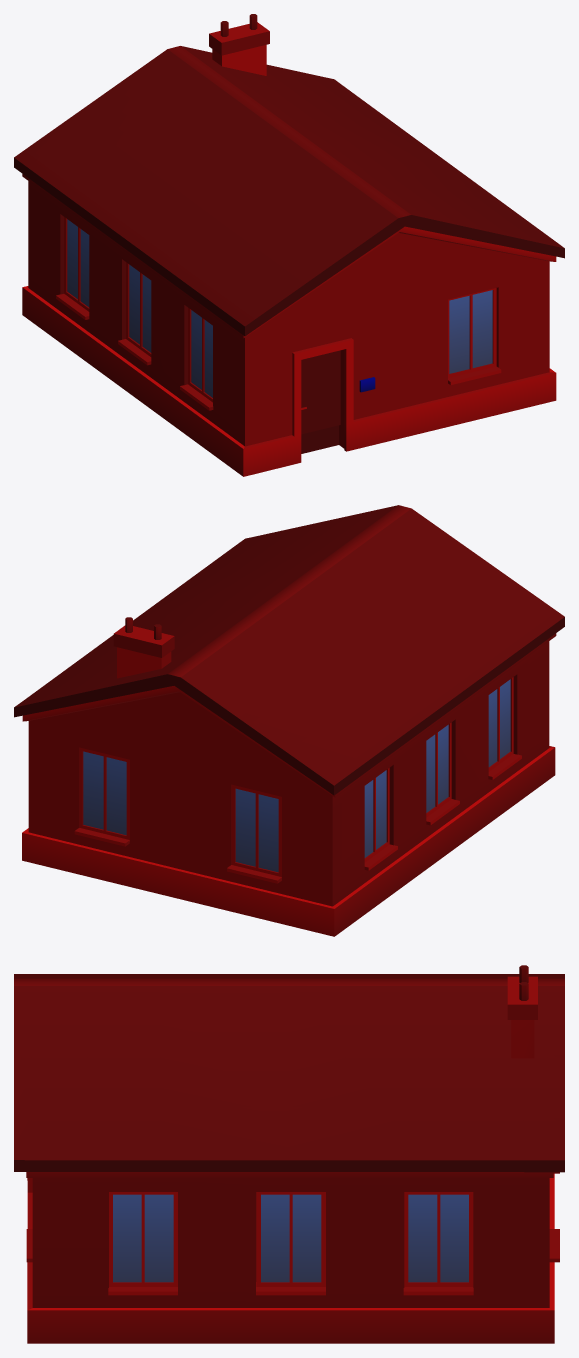
Rendered from buildings-business-smallbusiness_v2.fbx.
3 renders of one model, top to bottom at view 1: azimuth 30°, elevation 25°; view 2: azimuth 150°, elevation 25°; view 3: azimuth 270°, elevation 25°, orthographic. The views are drawn at different scales.
Visible parts, largest first — view 1: SmallBusiness_v2_base, SmallBusiness_v2_color, SmallBusiness_v2_windowRefl; view 2: SmallBusiness_v2_base, SmallBusiness_v2_color, SmallBusiness_v2_windowRefl; view 3: SmallBusiness_v2_base, SmallBusiness_v2_color, SmallBusiness_v2_windowRefl.
Part boxes in pixels (box(x1,y1,x2,y2)): SmallBusiness_v2_base: box(14, 14, 564, 476); SmallBusiness_v2_color: box(28, 181, 549, 446); SmallBusiness_v2_windowRefl: box(67, 219, 492, 397); SmallBusiness_v2_base: box(14, 505, 564, 936); SmallBusiness_v2_color: box(28, 641, 549, 906); SmallBusiness_v2_windowRefl: box(83, 679, 510, 872); SmallBusiness_v2_base: box(14, 965, 564, 1343); SmallBusiness_v2_color: box(32, 1178, 549, 1307); SmallBusiness_v2_windowRefl: box(113, 1194, 468, 1282).
Bounding box in the file's own units: 14.79 × 11.28 × 18.48.
